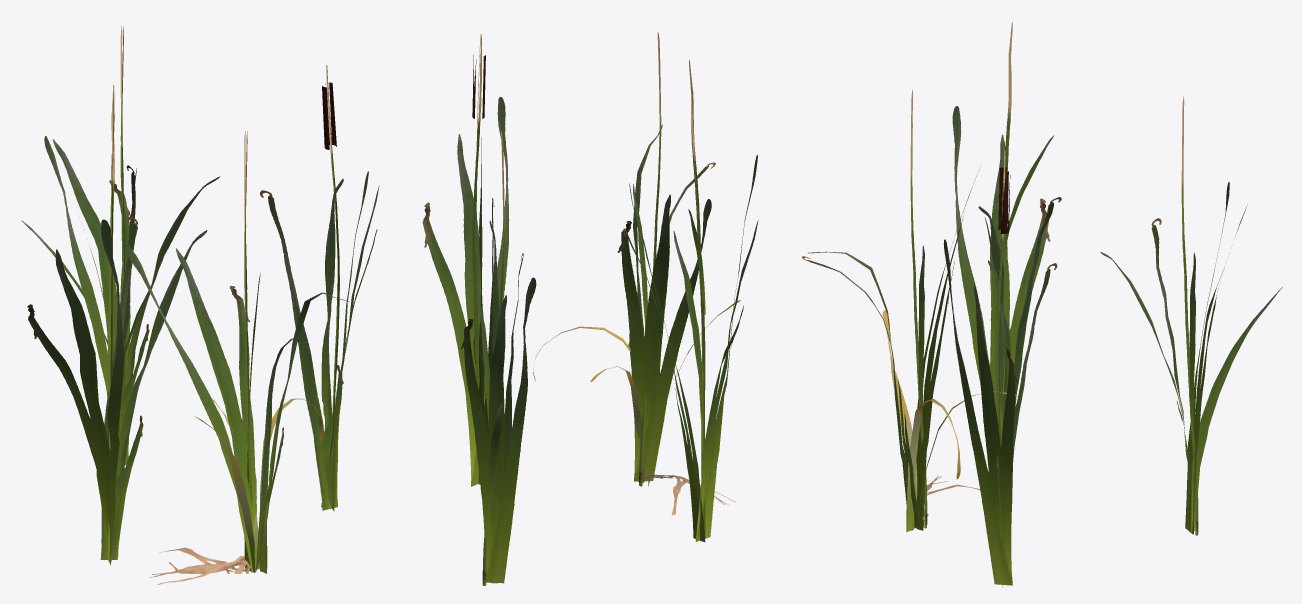
Rendered from reeds2.obj.
3 views of the same model, side by side, from view 1: azimuth 30°, elevation 25°; view 2: azimuth 150°, elevation 25°; view 3: azimuth 270°, elevation 25° (orthographic). The views are drawn at different scales.
Visible parts, largest first — view 1: reeds2; view 2: reeds2; view 3: reeds2.
Boxes of the visible parts, <box> form: reeds2: <box>21,25,379,584</box>; reeds2: <box>422,31,758,585</box>; reeds2: <box>802,22,1282,587</box>.
Bounding box in the file's own units: 0.8533 × 1.14 × 1.09.
Materials: 1 (1 with a texture image).
